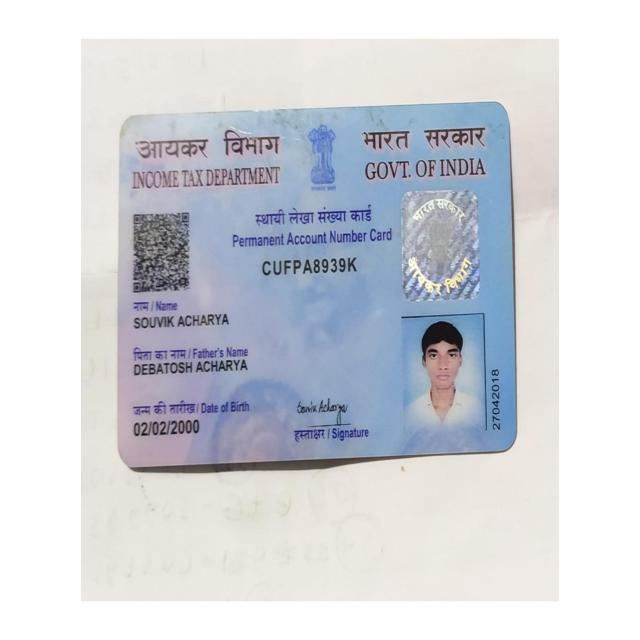pan_card: (120, 108, 509, 465)
